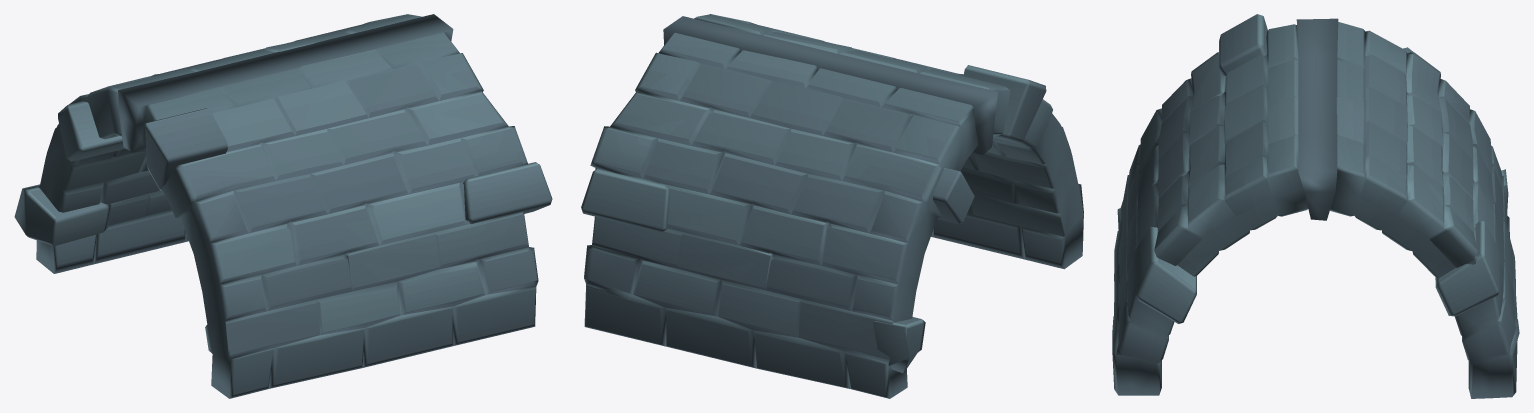
Rendered from Modular_Dungeon_Ceiling_Arched.fbx.
3 views of the same model, side by side, from view 1: azimuth 30°, elevation 25°; view 2: azimuth 150°, elevation 25°; view 3: azimuth 270°, elevation 25° (orthographic).
Parts seen in each view (by area): view 1: Ceiling_Arched; view 2: Ceiling_Arched; view 3: Ceiling_Arched.
Boxes of the visible parts, x1,y1,x2,y2 form: Ceiling_Arched: [14, 14, 552, 398]; Ceiling_Arched: [581, 14, 1083, 398]; Ceiling_Arched: [1112, 14, 1519, 398].
Bounding box in the file's own units: 7.35 × 4.62 × 7.31.
Materials: 1 (1 with a texture image).
